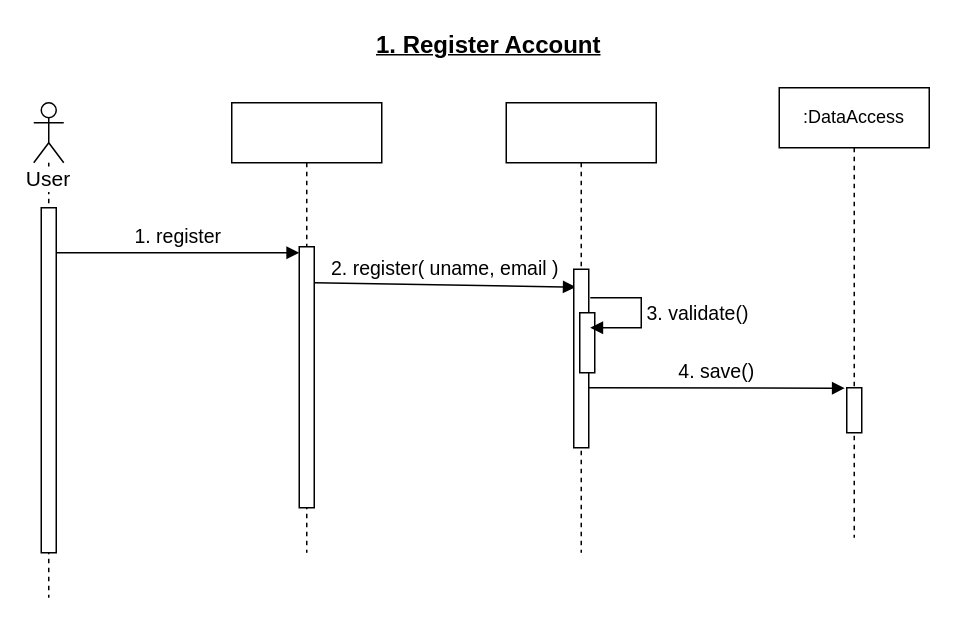
Image size: 956x624. Some labels were removed from this diagram. Each missing label, with the box of its shape:
:Controller: (505, 101, 656, 553)
:RegisterForm: (230, 101, 382, 553)
